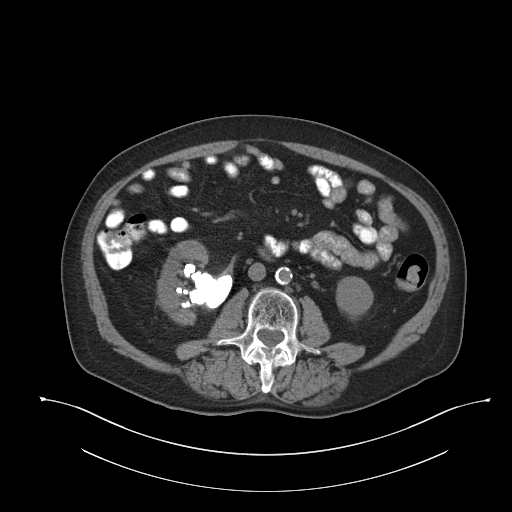Lesion: (173, 260, 233, 309)
